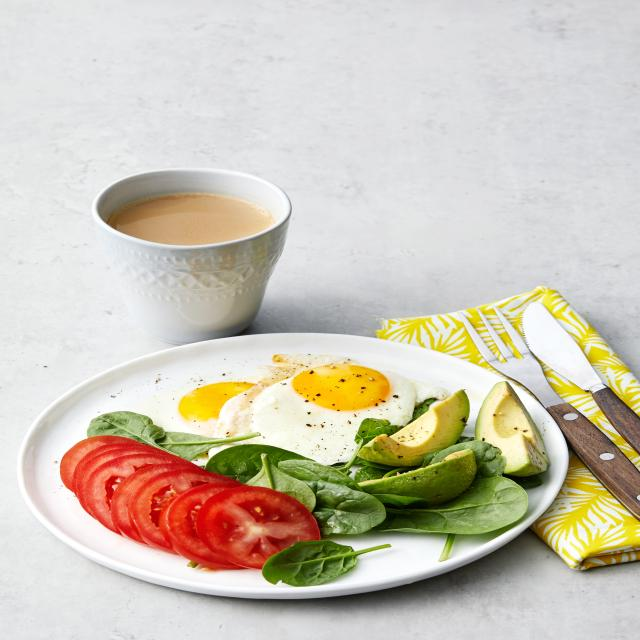aguacate: (371, 400, 489, 480)
huevos: (138, 356, 366, 451)
